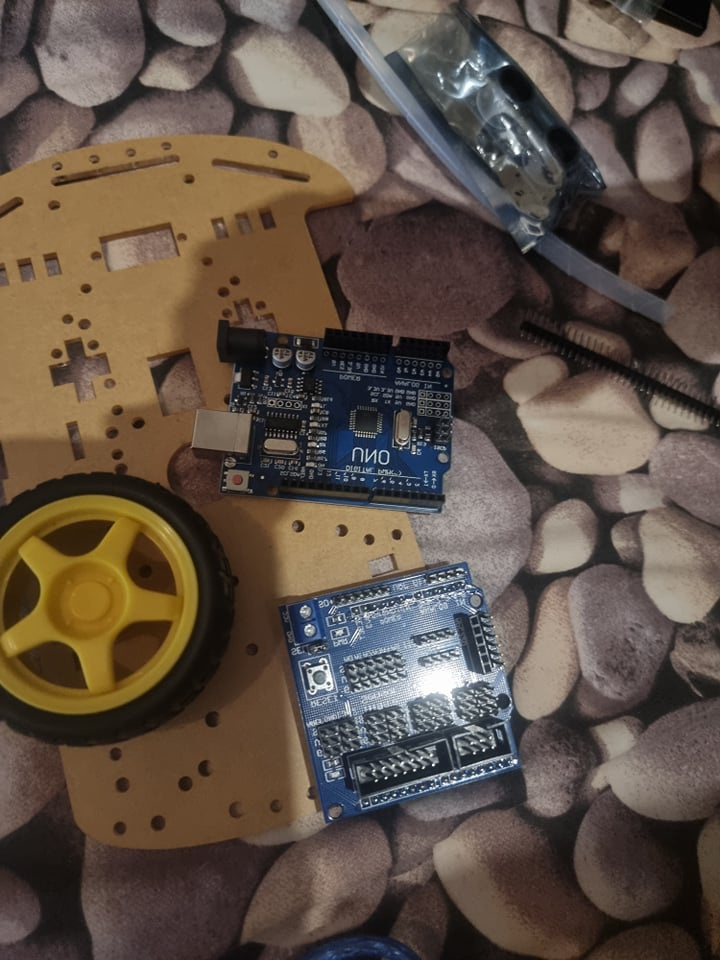5V EXPANSION: (278, 562, 523, 825)
UNO R3: (191, 318, 453, 517)
